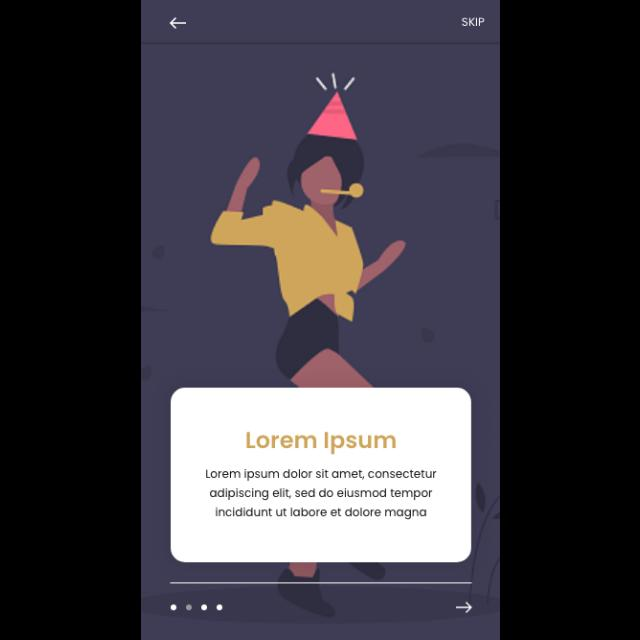backgroundimage: (141, 1, 499, 640)
icon: (456, 600, 472, 614), (169, 18, 187, 30)
pageindicator: (170, 604, 223, 610)
panel: (170, 388, 470, 562)
text: (205, 468, 437, 520), (246, 432, 396, 454), (461, 18, 485, 28)
